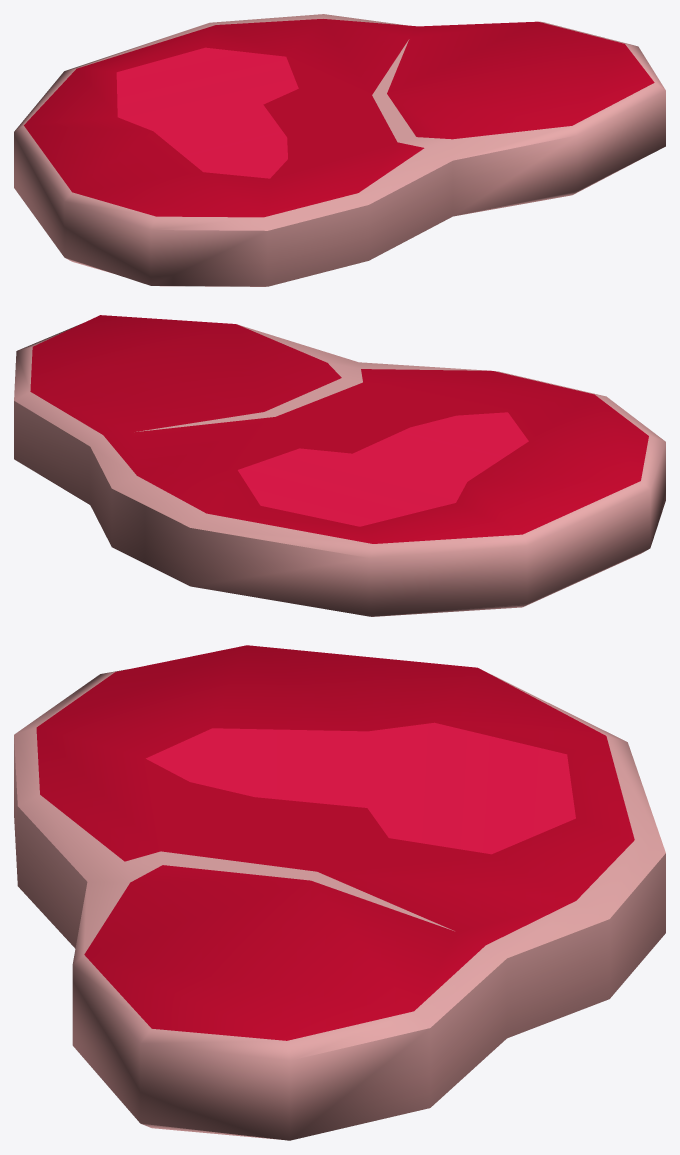
Rendered from Steak_Raw_1A.fbx.
3 views of the same model, one above another, from view 1: azimuth 30°, elevation 25°; view 2: azimuth 150°, elevation 25°; view 3: azimuth 270°, elevation 25° (orthographic). The views are drawn at different scales.
Visible parts, largest first — view 1: Steak_Raw_1A; view 2: Steak_Raw_1A; view 3: Steak_Raw_1A.
Boxes of the visible parts, <box> form: Steak_Raw_1A: <box>14,14,665,286</box>; Steak_Raw_1A: <box>14,315,665,616</box>; Steak_Raw_1A: <box>14,645,665,1140</box>.
Bounding box in the file's own units: 22.19 × 2.5 × 14.85.
